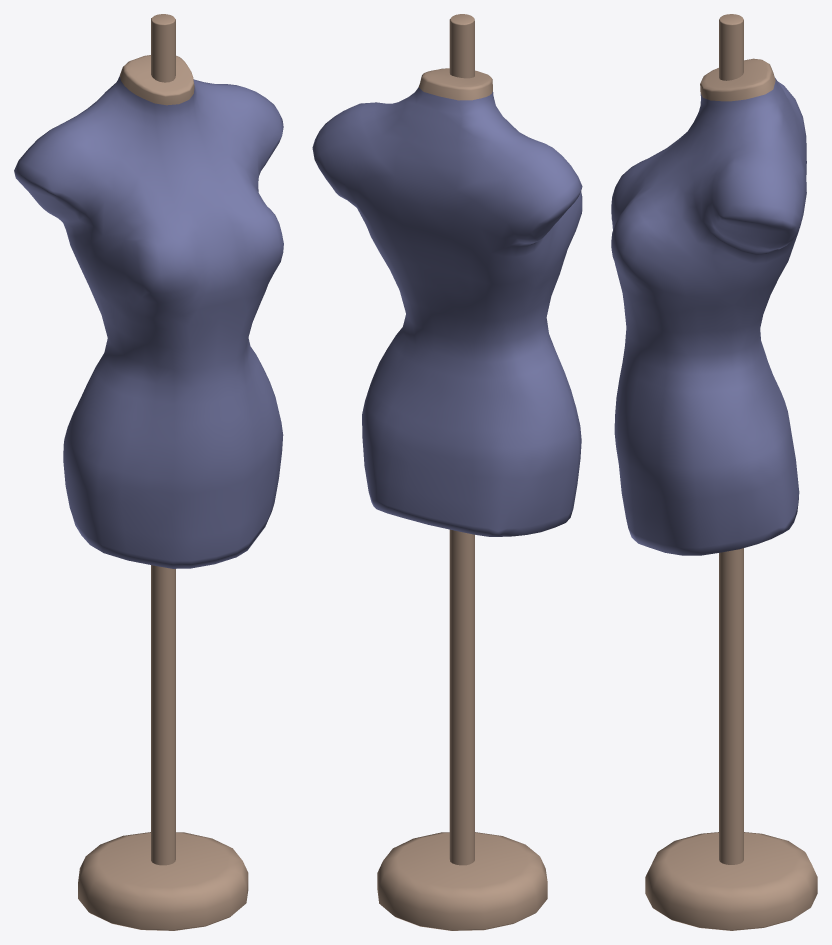
Rendered from Mannequin_1.glb.
The picture shows the model from 3 angles, left to right: view 1: azimuth 30°, elevation 25°; view 2: azimuth 150°, elevation 25°; view 3: azimuth 270°, elevation 25°; orthographic projection.
Parts seen in each view (by area): view 1: Mannequin_1; view 2: Mannequin_1; view 3: Mannequin_1.
Part boxes in pixels (bbox=[...]): Mannequin_1: bbox=[14, 14, 283, 930]; Mannequin_1: bbox=[312, 14, 582, 930]; Mannequin_1: bbox=[611, 14, 817, 930].
Bounding box in the file's own units: 0.7156 × 2.34 × 0.4996.
1 material, 1 textured.
